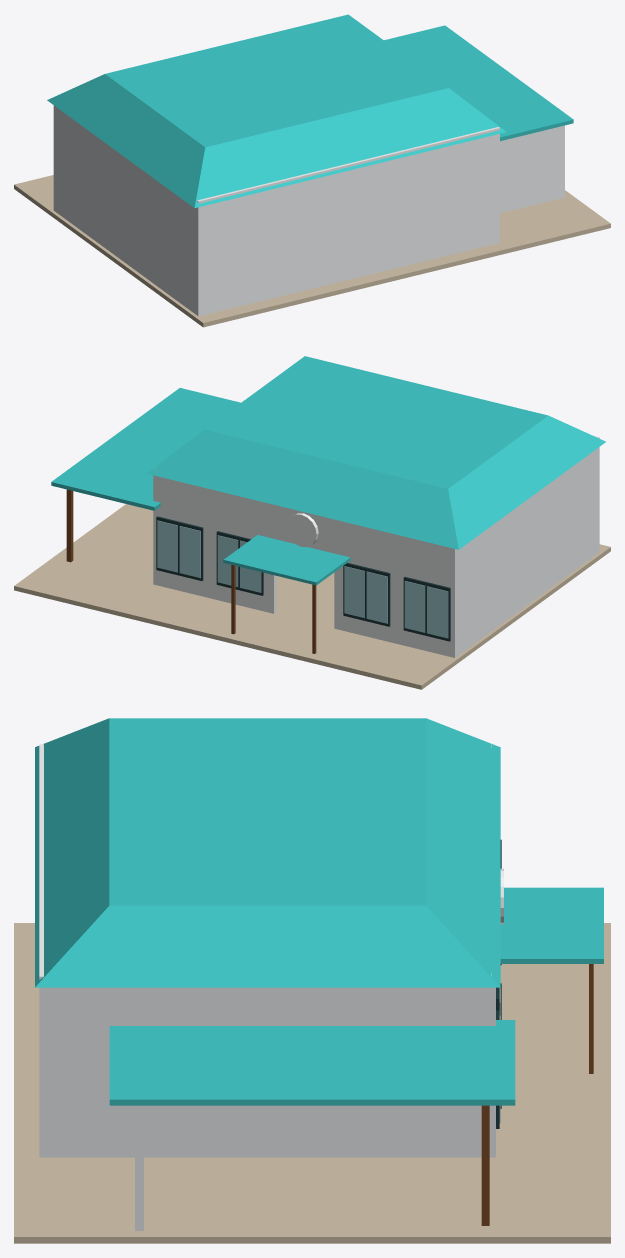
The model's file is vet_clinic.fbx.
3 views of the same model, one above another, from view 1: azimuth 30°, elevation 25°; view 2: azimuth 150°, elevation 25°; view 3: azimuth 270°, elevation 25° (orthographic). The views are drawn at different scales.
Visible parts, largest first — view 1: vet_clinic; view 2: vet_clinic; view 3: vet_clinic.
Boxes of the visible parts, x1,y1,x2,y2 form: vet_clinic: (14,14,610,327); vet_clinic: (14,356,610,689); vet_clinic: (14,718,610,1243).
Bounding box in the file's own units: 20 × 7 × 16.
